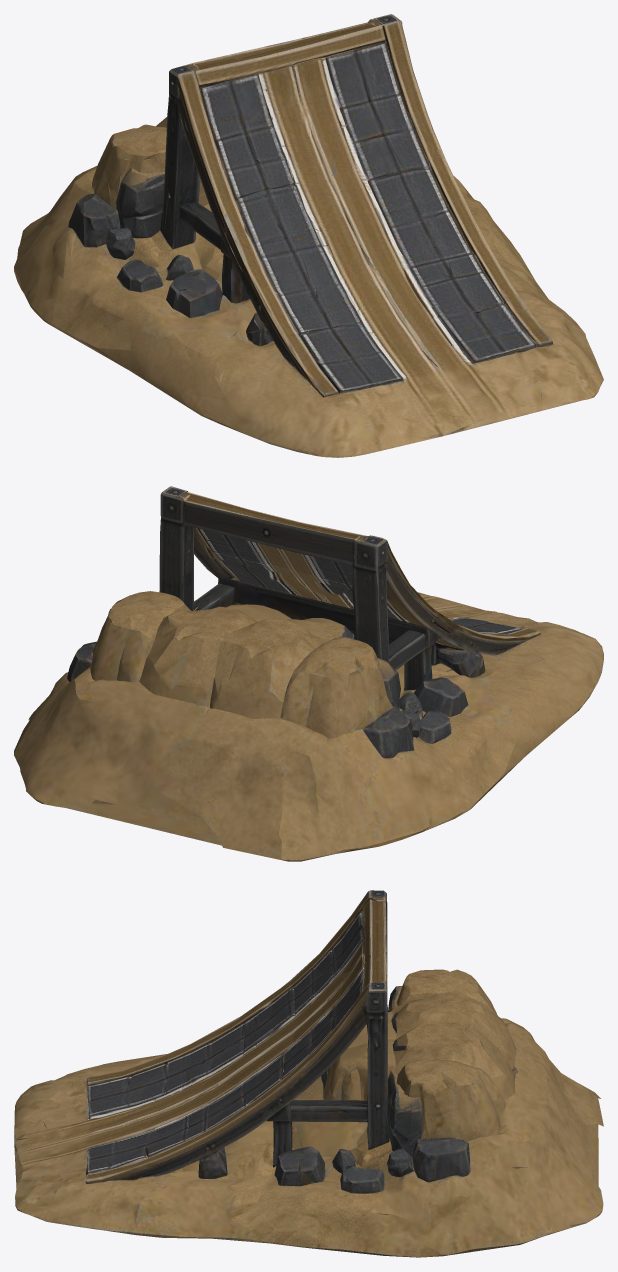
File: jump-ramp.glb
3 renders of one model, top to bottom at view 1: azimuth 30°, elevation 25°; view 2: azimuth 150°, elevation 25°; view 3: azimuth 270°, elevation 25°, orthographic. The views are drawn at different scales.
Size of the model in its own units: 1.51 by 0.7807 by 1.9.
Materials: 1 (1 with a texture image).
